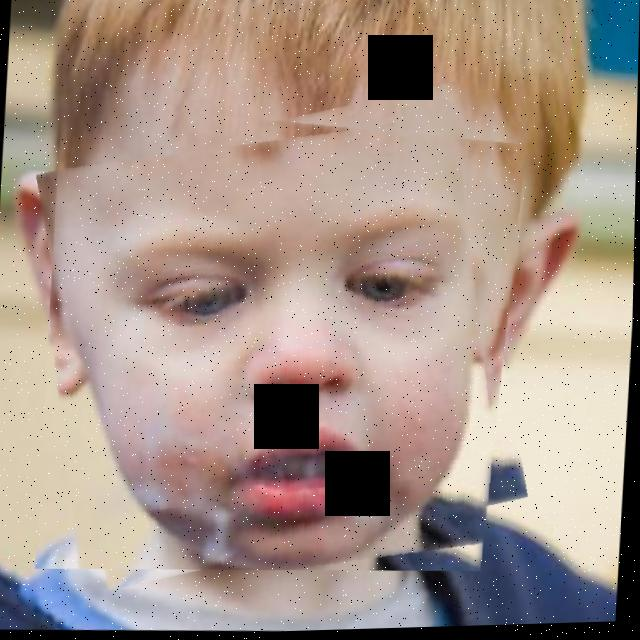sad: (37, 90, 529, 585)
